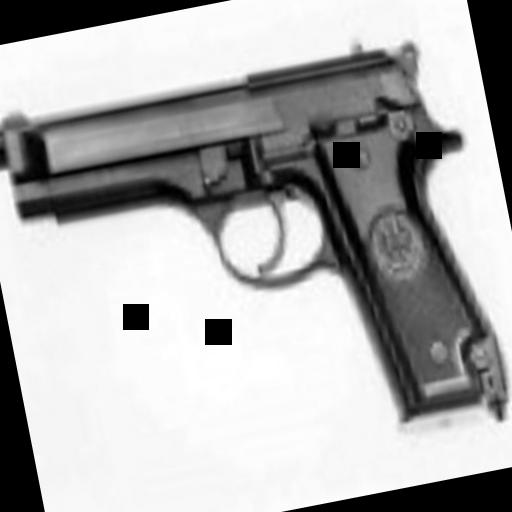Handgun: (0, 18, 512, 497)
